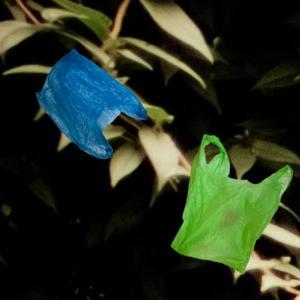plastic_bag: (170, 133, 294, 277), (35, 45, 151, 163)
